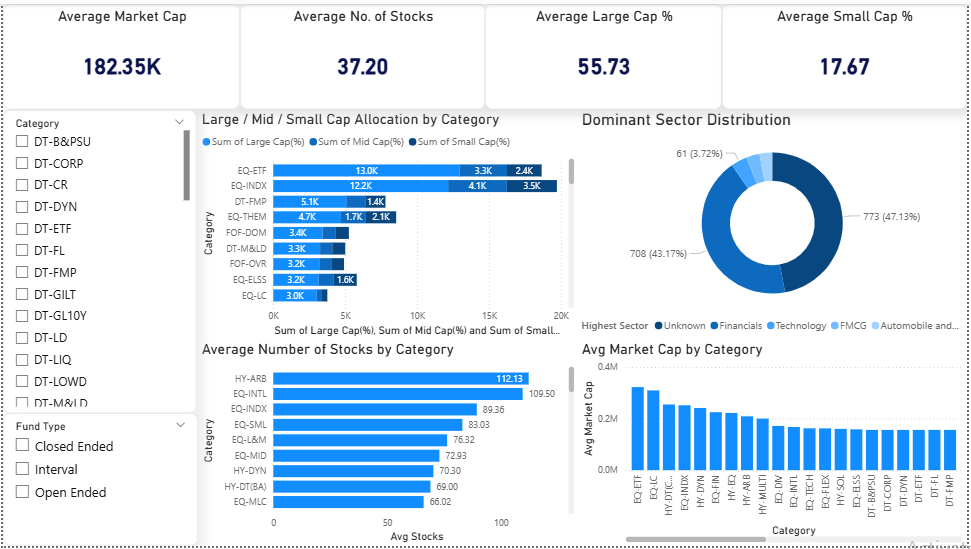

What the dashboard file says about the page in this screenshot:
{"tool":"powerbi","page":{"name":"Portfolio_Composition_Dashboard","canvas":[1280,720],"ordinal":3},"visuals":[{"type":"barChart","title":"Large / Mid / Small Cap Allocation by Category","fields":{"Y":["Sum(cleaned_mutualfund_dataset.Large Cap(%))","Sum(cleaned_mutualfund_dataset.Mid Cap(%))","Sum(cleaned_mutualfund_dataset.Small Cap(%))"],"Category":["cleaned_mutualfund_dataset.Category"]},"box":[258.8,140.4,505.1,305.5],"z":0},{"type":"donutChart","title":"Dominant Sector Distribution","fields":{"Category":["cleaned_mutualfund_dataset.Highest Sector"],"Y":["cleaned_mutualfund_dataset.Total Funds"]},"box":[763.9,140.4,516.1,305.5],"z":1000},{"type":"card","title":"Average Market Cap","fields":{"Values":["cleaned_mutualfund_dataset.Avg Market Cap"]},"box":[0,0,315.2,140.4],"z":2000},{"type":"columnChart","fields":{"Category":["cleaned_mutualfund_dataset.Category"],"Y":["cleaned_mutualfund_dataset.Avg Market Cap"]},"box":[763.9,445.9,516.1,273.9],"z":3000},{"type":"barChart","title":"Average Number of Stocks by Category","fields":{"Category":["cleaned_mutualfund_dataset.Category"],"Y":["Avg(cleaned_mutualfund_dataset.No. ofStocks)"]},"box":[258.8,445.9,505.1,273.9],"z":4000},{"type":"slicer","fields":{"Values":["cleaned_mutualfund_dataset.Category"]},"box":[0,140.4,257.4,403.3],"z":5000},{"type":"slicer","fields":{"Values":["cleaned_mutualfund_dataset.Fund Type"]},"box":[0,543.7,258.8,176.2],"z":6000},{"type":"card","title":"Average No. of Stocks","fields":{"Values":["Avg(cleaned_mutualfund_dataset.No. ofStocks)"]},"box":[314.7,0,326.2,140.4],"z":7000},{"type":"card","title":"Average Large Cap %","fields":{"Values":["Avg(cleaned_mutualfund_dataset.Large Cap(%))"]},"box":[640.5,0,315.2,140.4],"z":8000},{"type":"card","title":"Average Small Cap %","fields":{"Values":["Avg(cleaned_mutualfund_dataset.Small Cap(%))"]},"box":[955.2,0,324.8,140.4],"z":9000}]}

Visuals, with their boxes in screenshot pixels (x1, y1, x2, y2), scaled from the page's 1280x720 canvas onto the 971x549 screenshot:
"Large / Mid / Small Cap Allocation by Category" barChart: 196,107,579,340
"Dominant Sector Distribution" donutChart: 579,107,970,340
"Average Market Cap" card: 0,0,239,107
columnChart - cleaned_mutualfund_dataset.Category x cleaned_mutualfund_dataset.Avg Market Cap: 579,340,970,548
"Average Number of Stocks by Category" barChart: 196,340,579,548
slicer - cleaned_mutualfund_dataset.Category: 0,107,195,415
slicer - cleaned_mutualfund_dataset.Fund Type: 0,415,196,548
"Average No. of Stocks" card: 239,0,486,107
"Average Large Cap %" card: 486,0,725,107
"Average Small Cap %" card: 725,0,970,107
